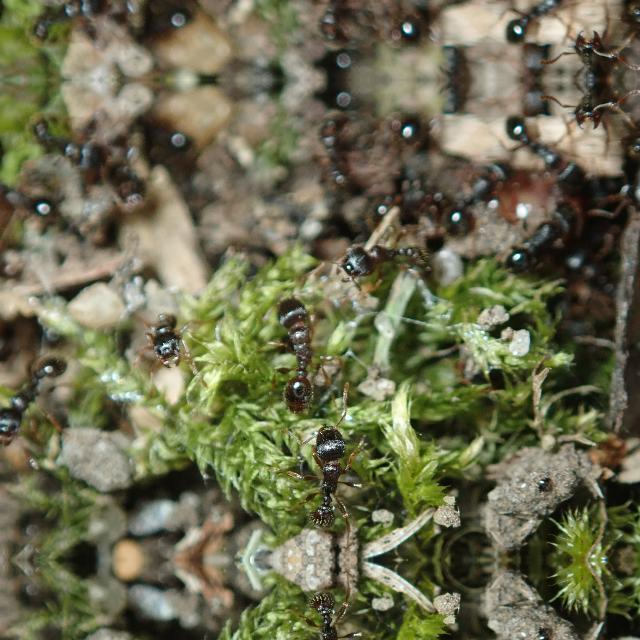Tetramorium: (255, 282, 351, 416), (299, 409, 381, 543), (500, 193, 612, 279), (0, 352, 92, 456), (503, 106, 601, 202), (324, 222, 440, 298), (130, 296, 214, 388), (15, 106, 107, 178), (302, 107, 372, 199), (442, 151, 512, 241), (299, 576, 381, 640), (503, 0, 601, 52), (15, 0, 107, 54), (550, 80, 640, 124), (550, 36, 640, 80), (300, 0, 371, 52)
